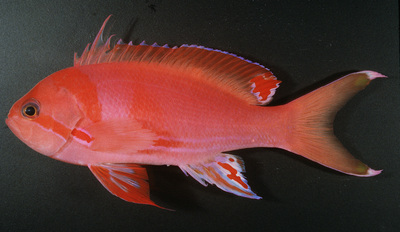fish: (5, 13, 389, 211)
